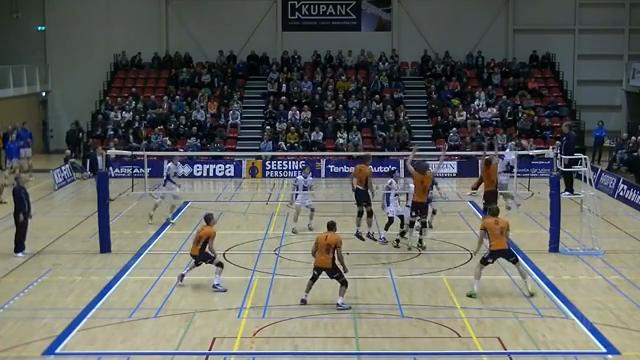attacco: (496, 133, 525, 215)
muro: (400, 141, 439, 254), (472, 141, 500, 230)
